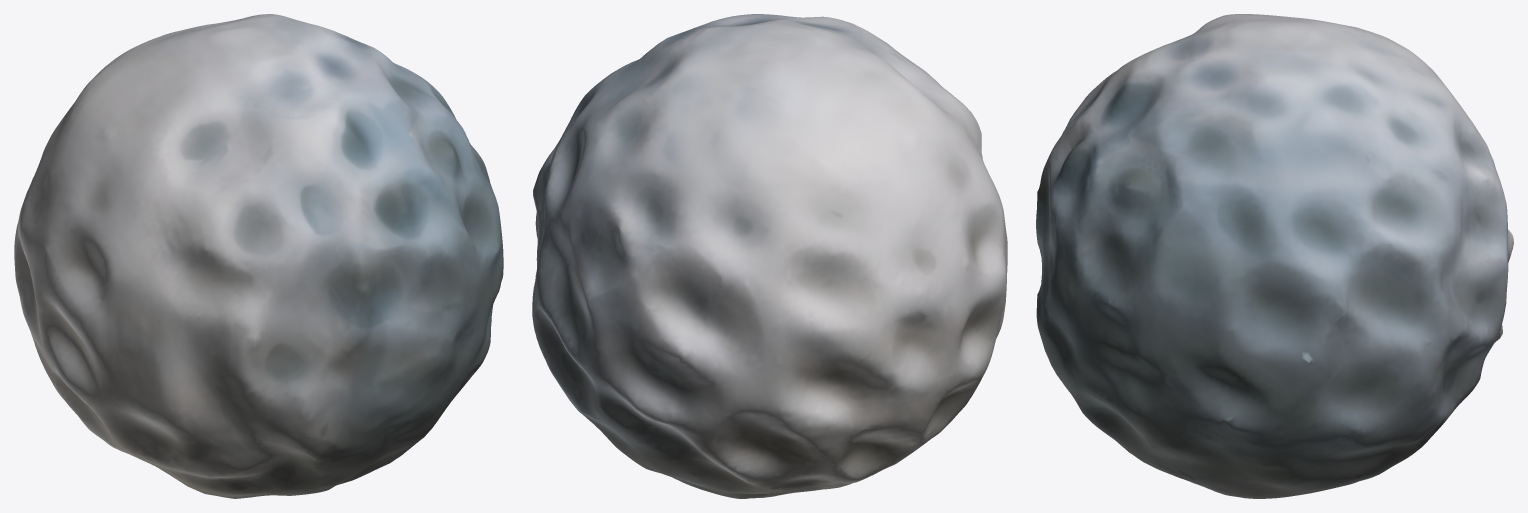
The model's file is asteroid.fbx.
3 views of the same model, side by side, from view 1: azimuth 30°, elevation 25°; view 2: azimuth 150°, elevation 25°; view 3: azimuth 270°, elevation 25° (orthographic).
Visible parts, largest first — view 1: Mesh_0; view 2: Mesh_0; view 3: Mesh_0.
Boxes of the visible parts, left/top/right/bottom form: Mesh_0: left=14, top=14, right=503, bottom=498; Mesh_0: left=532, top=14, right=1007, bottom=498; Mesh_0: left=1036, top=14, right=1513, bottom=498.
Bounding box in the file's own units: 120 × 119 × 118.
1 material, 1 textured.
